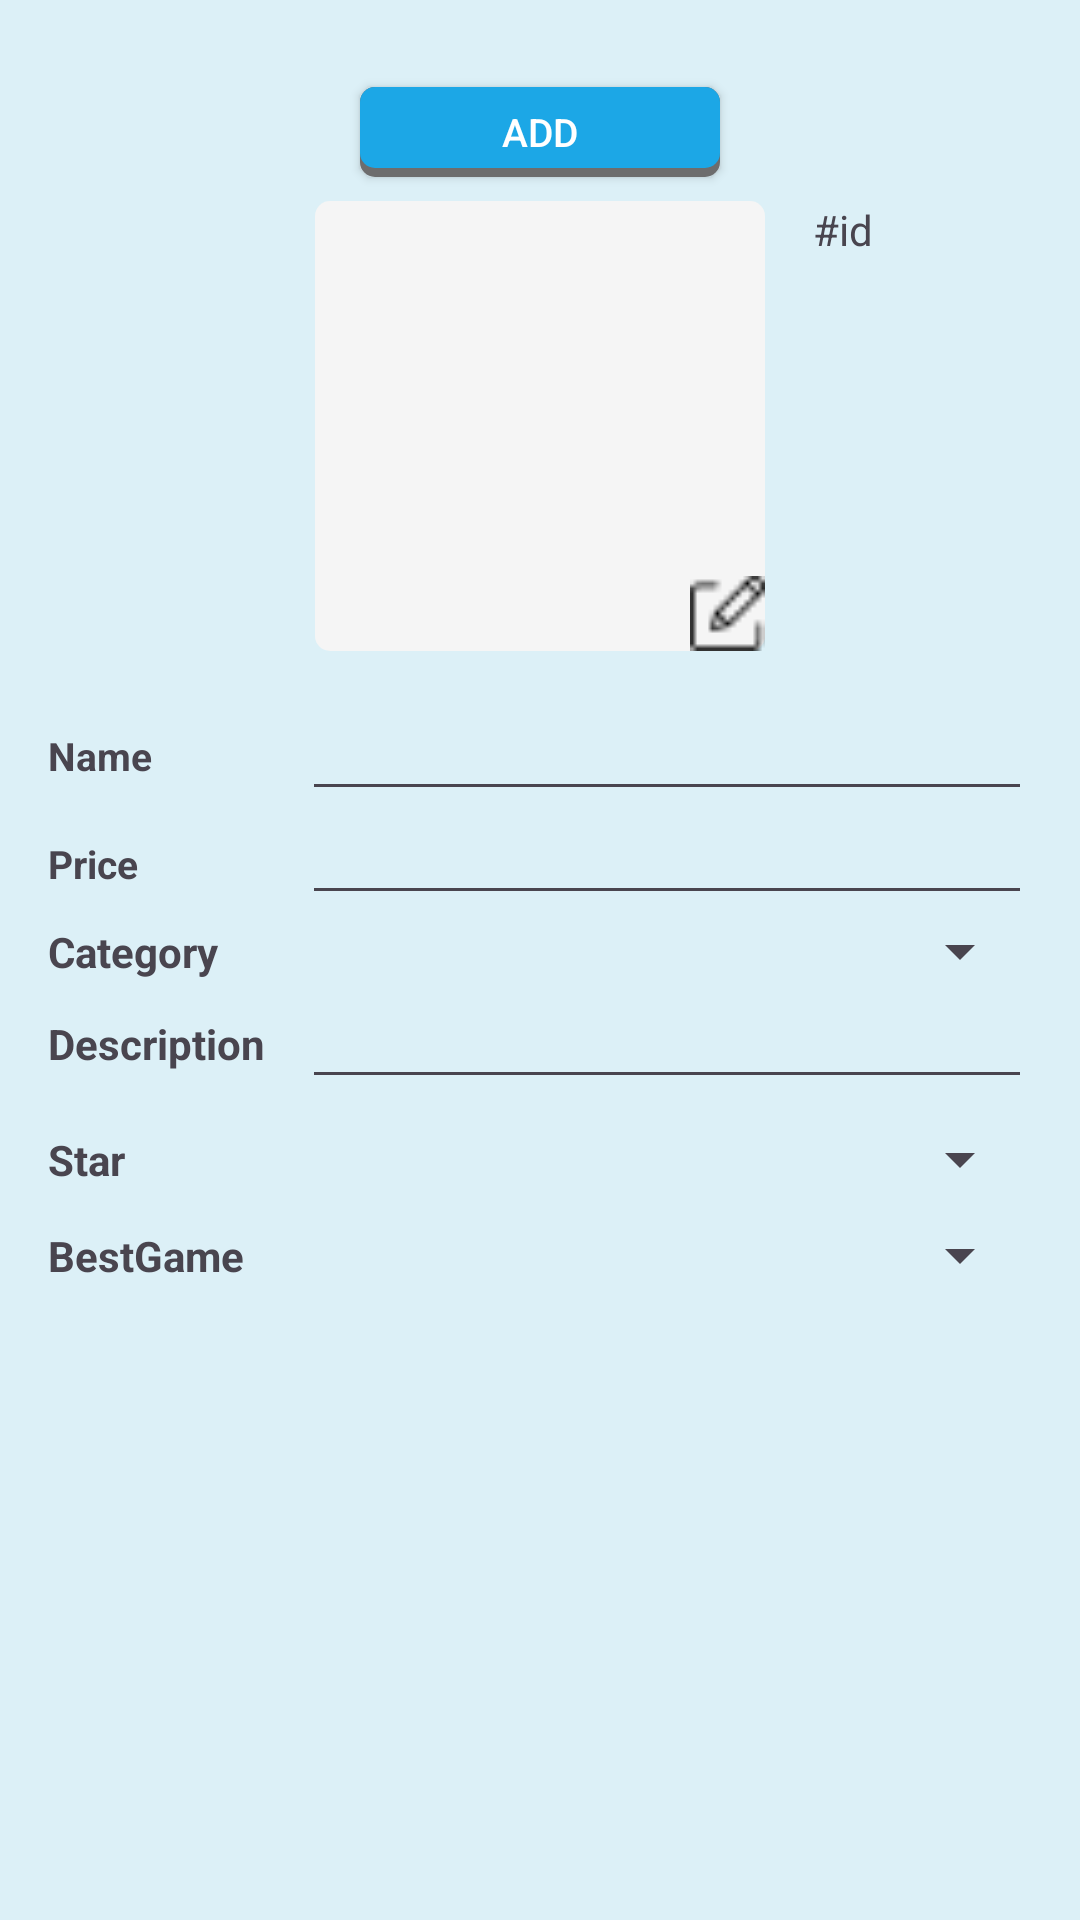

Icons on this 1080 x 1920 Android screen, each with the point to tap as (x=x, y=y):
pen: (x=727, y=613)
